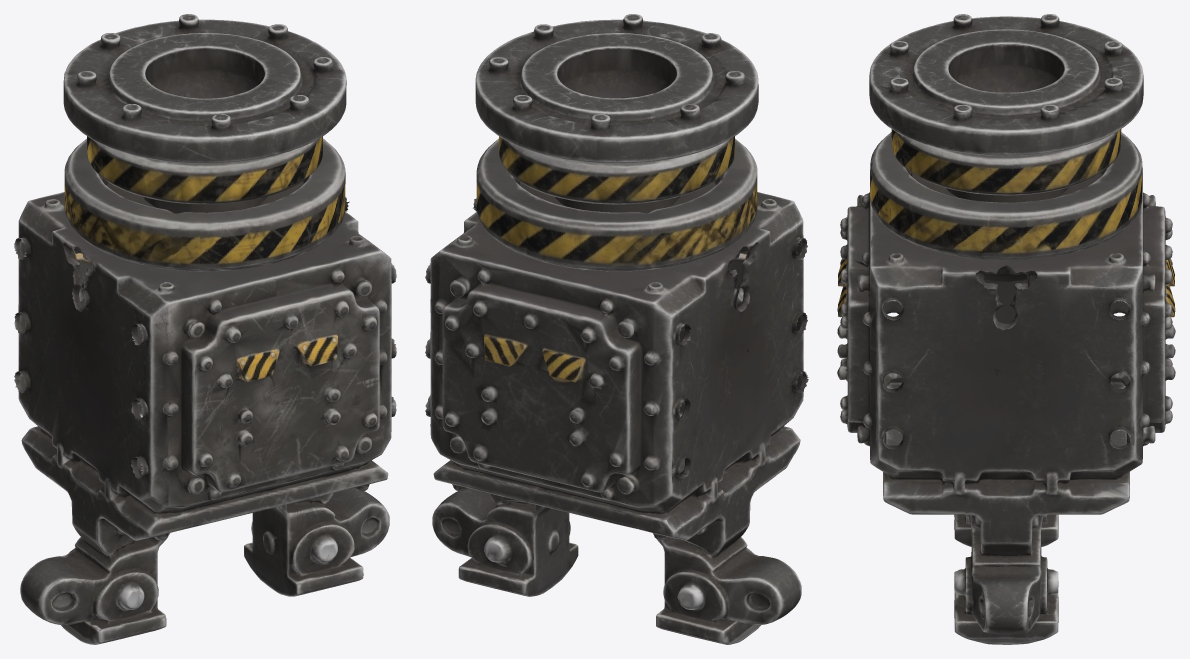
The model's file is cuerpo.glb.
3 renders of one model, left to right at view 1: azimuth 30°, elevation 25°; view 2: azimuth 150°, elevation 25°; view 3: azimuth 270°, elevation 25°, orthographic. The views are drawn at different scales.
Size of the model in its own units: 1.3 by 1.9 by 1.12.
1 material, 1 textured.
